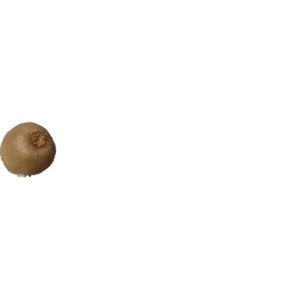kiwi: (1, 122, 57, 178)
